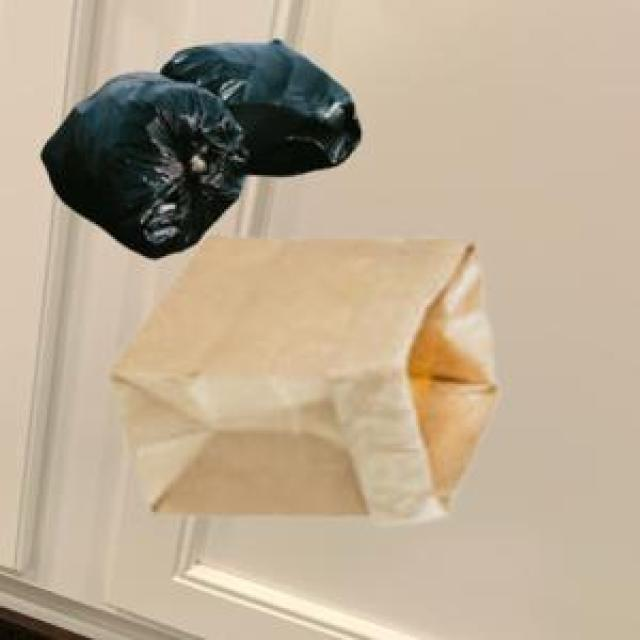miscellaneous trash: (36, 36, 356, 254)
paper: (107, 233, 493, 518)
